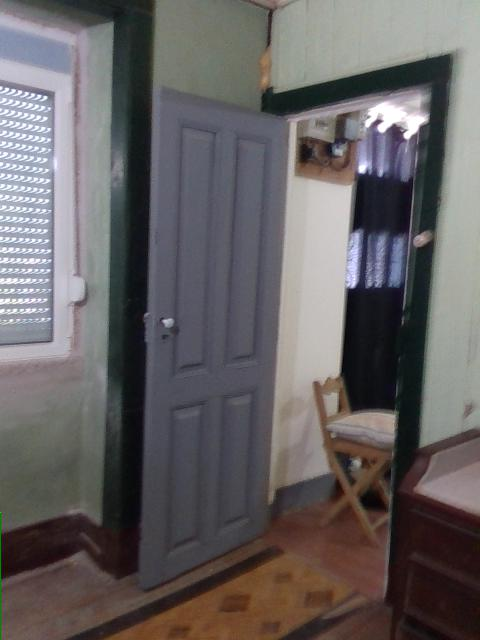door: (139, 86, 287, 592)
